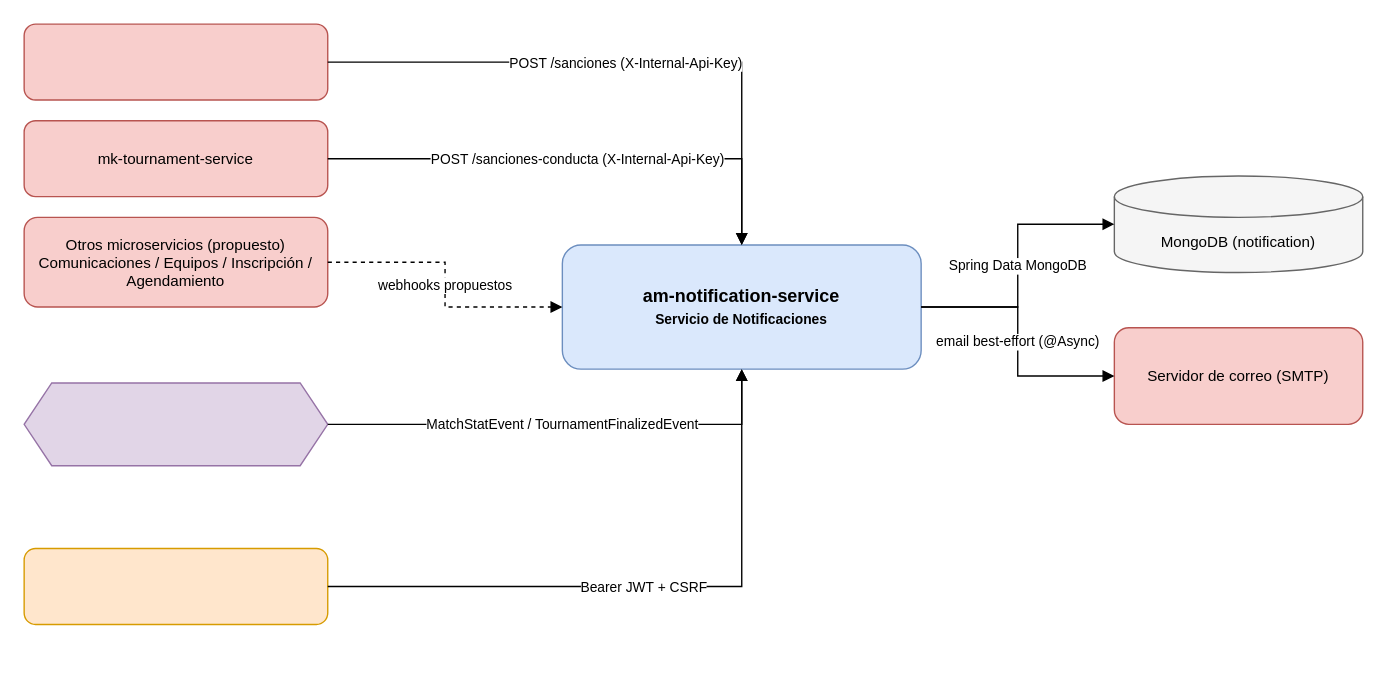
This 1387x676 diagram has some shape labels left out. The centre of each missing label's shape, as x and y in pixels:
"am-matches-service" belongs at [175,61].
"Frontend (app web/móvil)" belongs at [175,585].
"techcup.exchange (CloudAMQP)" belongs at [175,424].
